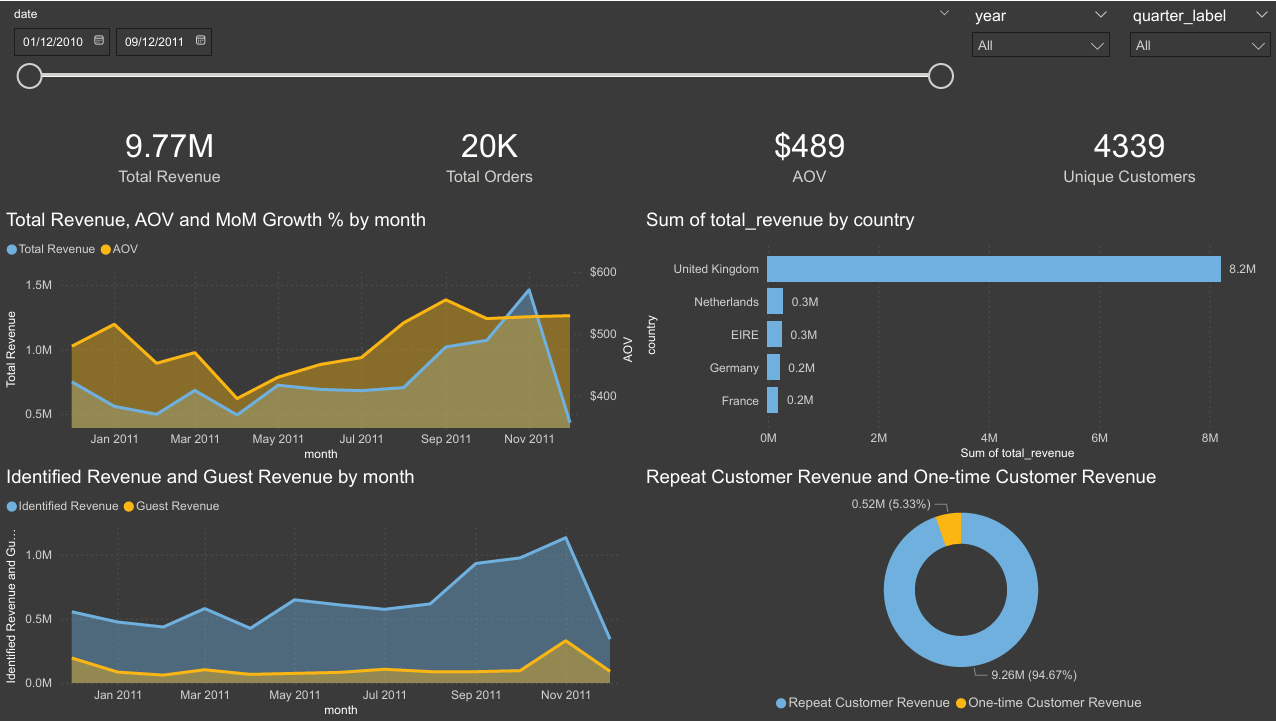

Layout of this report page (visuals, bound fields, positions):
{"tool":"powerbi","page":{"name":"Executive Overview","canvas":[1280,720],"ordinal":0},"visuals":[{"type":"slicer","fields":{"Values":["online_retail dim_date.date"]},"box":[0,0,1008.6,113.8],"z":0},{"type":"slicer","fields":{"Values":["online_retail dim_date.quarter"]},"box":[1008.6,0,137.1,113.8],"z":1000},{"type":"slicer","fields":{"Values":["online_retail dim_date.year"]},"box":[1145.8,0,134.2,113.8],"z":2000},{"type":"lineChart","fields":{"Category":["online_retail dim_date.year_month"],"Y":["online_retail vw_dim_product.Total Revenue"],"Y2":["online_retail vw_dim_product.AOV"]},"box":[0,210.1,640,254.8],"z":3000},{"type":"clusteredBarChart","fields":{"Category":["online_retail vw_dim_geography.country"],"Y":["Sum(online_retail vw_fact_orders.revenue)"]},"box":[640,210.1,640,254.8],"z":4000},{"type":"lineChart","title":"Total Revenue by Month for identified and guest","fields":{"Category":["online_retail dim_date.year_month.Variation.Date Hierarchy.Month"],"Series":["online_retail vw_dim_customer.is_guest"],"Y":["Sum(online_retail vw_fact_orders.revenue)"]},"box":[0,464.9,640,254.8],"z":5000},{"type":"donutChart","title":"Total Revenue by customer type","fields":{"Category":["online_retail vw_dim_customer.customer_type"],"Y":["Sum(online_retail vw_fact_orders.revenue)"]},"box":[640,464.9,640,254.8],"z":6000},{"type":"card","title":"Total Revenue","fields":{"Values":["Sum(online_retail vw_fact_orders.revenue)"]},"box":[0,113.8,320,96.3],"z":7000},{"type":"card","title":"Total Orders","fields":{"Values":["Measures_.Total Orders"]},"box":[319.6,114,319.6,96.1],"z":8000},{"type":"card","title":"Average Order Value","fields":{"Values":["online_retail vw_dim_product.AOV"]},"box":[639.2,114,320.5,96.1],"z":9000},{"type":"card","title":"Unique Customers","fields":{"Values":["online_retail vw_dim_product.Unique Customers"]},"box":[959.7,114,320.5,96.1],"z":10000}]}

Visuals, with their boxes in screenshot pixels (x1, y1, x2, y2), scaled from the page's 1280x720 canvas onto the 1276x722 screenshot:
slicer - online_retail dim_date.date: bbox(0, 0, 1005, 114)
slicer - online_retail dim_date.quarter: bbox(1005, 0, 1142, 114)
slicer - online_retail dim_date.year: bbox(1142, 0, 1275, 114)
lineChart - online_retail dim_date.year_month x online_retail vw_dim_product.Total Revenue: bbox(0, 211, 638, 466)
clusteredBarChart - online_retail vw_dim_geography.country x Sum(online_retail vw_fact_orders.revenue): bbox(638, 211, 1275, 466)
"Total Revenue by Month for identified and guest" lineChart: bbox(0, 466, 638, 721)
"Total Revenue by customer type" donutChart: bbox(638, 466, 1275, 721)
"Total Revenue" card: bbox(0, 114, 319, 211)
"Total Orders" card: bbox(319, 114, 637, 211)
"Average Order Value" card: bbox(637, 114, 957, 211)
"Unique Customers" card: bbox(957, 114, 1275, 211)
